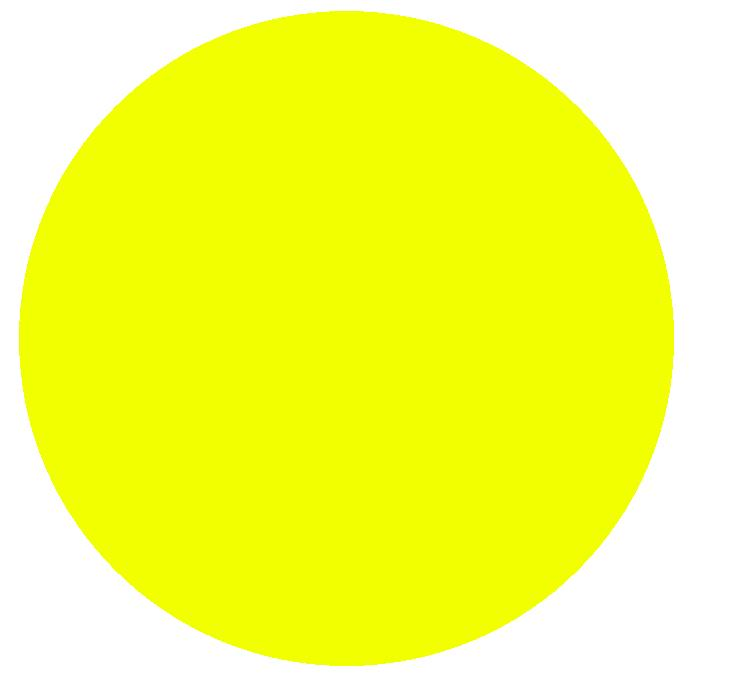yellow_circle: (17, 6, 673, 668)
